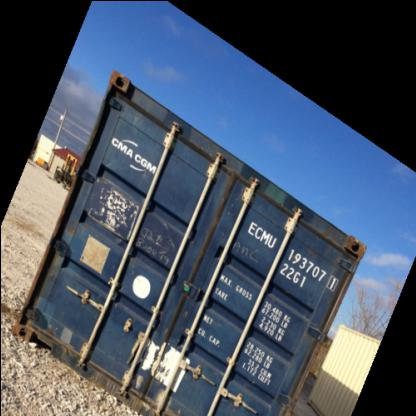Damage: (120, 327, 191, 398), (88, 188, 136, 238), (138, 209, 180, 261), (27, 302, 63, 334), (338, 235, 368, 267)
